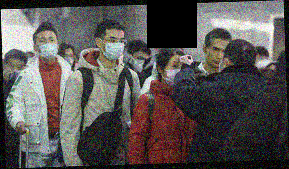with_mask: (102, 36, 127, 63), (163, 58, 185, 88), (36, 36, 59, 61), (6, 61, 26, 83), (132, 54, 150, 74), (255, 55, 271, 71), (62, 50, 76, 68)
without_mask: (207, 45, 227, 70)
